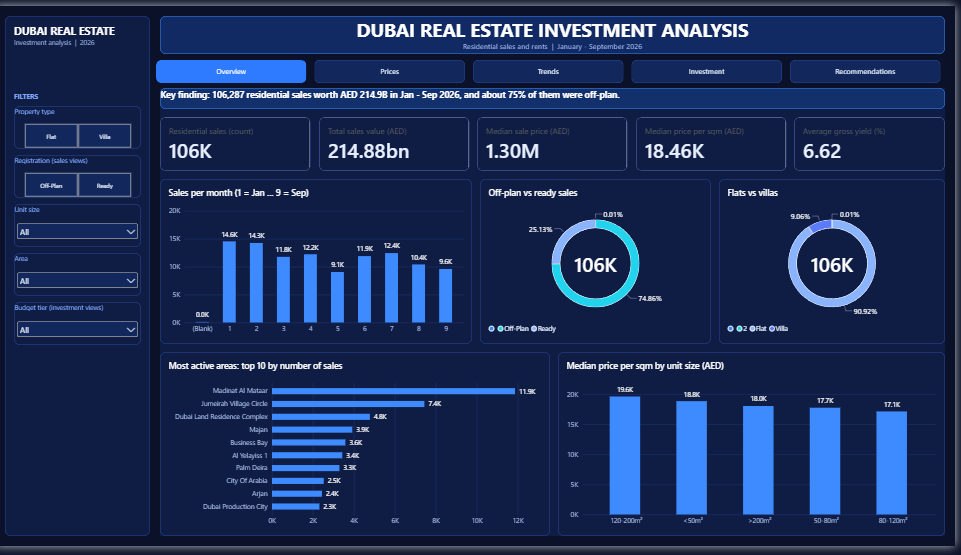

The page's visual inventory and layout, read from the dashboard file:
{"tool":"powerbi","page":{"name":"Dashboard","canvas":[1920,1080],"ordinal":1},"visuals":[{"type":"actionButton","box":[38,108,254,44],"z":0},{"type":"textbox","box":[330,164,1570,42],"z":0,"group":"g1"},{"type":"clusteredColumnChart","title":"Sales per month (1 = Jan ... 9 = Sep)","fields":{"Category":["fact_sales_powerbi.month_num"],"Y":["_Measures.Transactions"]},"box":[330,346,624,330],"z":1000,"group":"g1"},{"type":"textbox","box":[38,985,254,60],"z":1000},{"type":"textbox","box":[20,20,290,1040],"z":2000},{"type":"donutChart","title":"Off-plan vs ready sales","fields":{"Category":["fact_sales_powerbi.is_offplan_en"],"Y":["_Measures.Transactions"]},"box":[970,346,462,330],"z":2000,"group":"g1"},{"type":"textbox","box":[38,34,254,64],"z":3000},{"type":"donutChart","title":"Flats vs villas","fields":{"Category":["fact_sales_powerbi.prop_sb_type_en"],"Y":["_Measures.Transactions"]},"box":[1448,346,452,330],"z":3000,"group":"g1"},{"type":"textbox","box":[38,170,254,24],"z":4000},{"type":"barChart","title":"Most active areas: top 10 by number of sales","fields":{"Category":["Dim_Area.area_en"],"Y":["_Measures.Transactions"]},"box":[330,692,780,368],"z":4000,"group":"g1"},{"type":"textbox","box":[330,20,1570,76],"z":5000},{"type":"clusteredColumnChart","title":"Median price per sqm by unit size (AED)","fields":{"Category":["Dim_SizeBand.size_band"],"Y":["_Measures.Median Price per Sqm"]},"box":[1126,692,774,368],"z":5000,"group":"g1"},{"type":"bookmarkNavigator","box":[321.5,107.2,1570,46],"z":6000},{"type":"cardVisual","fields":{"Data":["_Measures.Transactions"]},"box":[330,222,301,108],"z":6000,"group":"g1"},{"type":"group","id":"g1","title":"V1 Overview","box":[330,164,1570,896],"z":7000},{"type":"cardVisual","fields":{"Data":["Sum(fact_sales_powerbi.trans_value)"]},"box":[647,222,301,108],"z":7000,"group":"g1"},{"type":"cardVisual","fields":{"Data":["_Measures.Median Price"]},"box":[964,222,301,108],"z":8000,"group":"g1"},{"type":"cardVisual","fields":{"Data":["_Measures.Median Price per Sqm"]},"box":[1281,222,301,108],"z":9000,"group":"g1"},{"type":"cardVisual","fields":{"Data":["_Measures.Gross Yield % (weighted)"]},"box":[1598,222,302,108],"z":10000,"group":"g1"},{"type":"slicer","title":"Property type","fields":{"Values":["Dim_PropertyType.prop_sb_type_en"]},"box":[38,200,254,86],"z":13000},{"type":"slicer","title":"Registration (sales views)","fields":{"Values":["fact_sales_powerbi.is_offplan_en"]},"box":[38,298,254,86],"z":14000},{"type":"slicer","title":"Unit size","fields":{"Values":["Dim_SizeBand.size_band"]},"box":[38,396,254,86],"z":15000},{"type":"slicer","title":"Area","fields":{"Values":["Dim_Area.area_en"]},"box":[38,494,254,86],"z":16000},{"type":"slicer","title":"Budget tier (investment views)","fields":{"Values":["Dim_BudgetTier.budget_tier"]},"box":[38,592,254,86],"z":17000}]}

Visuals, with their boxes in screenshot pixels (x1, y1, x2, y2), scaled from the page's 1920x1080 canvas onto the 961x555 screenshot:
actionButton: (x1=19, y1=55, x2=146, y2=78)
textbox: (x1=165, y1=84, x2=951, y2=106)
"Sales per month (1 = Jan ... 9 = Sep)" clusteredColumnChart: (x1=165, y1=178, x2=477, y2=347)
textbox: (x1=19, y1=506, x2=146, y2=537)
textbox: (x1=10, y1=10, x2=155, y2=545)
"Off-plan vs ready sales" donutChart: (x1=486, y1=178, x2=717, y2=347)
textbox: (x1=19, y1=17, x2=146, y2=50)
"Flats vs villas" donutChart: (x1=725, y1=178, x2=951, y2=347)
textbox: (x1=19, y1=87, x2=146, y2=100)
"Most active areas: top 10 by number of sales" barChart: (x1=165, y1=356, x2=556, y2=545)
textbox: (x1=165, y1=10, x2=951, y2=49)
"Median price per sqm by unit size (AED)" clusteredColumnChart: (x1=564, y1=356, x2=951, y2=545)
bookmarkNavigator: (x1=161, y1=55, x2=947, y2=79)
cardVisual - _Measures.Transactions: (x1=165, y1=114, x2=316, y2=170)
"V1 Overview" group: (x1=165, y1=84, x2=951, y2=545)
cardVisual - Sum(fact_sales_powerbi.trans_value): (x1=324, y1=114, x2=474, y2=170)
cardVisual - _Measures.Median Price: (x1=483, y1=114, x2=633, y2=170)
cardVisual - _Measures.Median Price per Sqm: (x1=641, y1=114, x2=792, y2=170)
cardVisual - _Measures.Gross Yield % (weighted): (x1=800, y1=114, x2=951, y2=170)
"Property type" slicer: (x1=19, y1=103, x2=146, y2=147)
"Registration (sales views)" slicer: (x1=19, y1=153, x2=146, y2=197)
"Unit size" slicer: (x1=19, y1=203, x2=146, y2=248)
"Area" slicer: (x1=19, y1=254, x2=146, y2=298)
"Budget tier (investment views)" slicer: (x1=19, y1=304, x2=146, y2=348)
